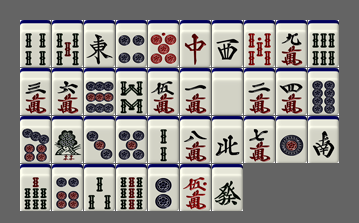0m: (180, 164, 211, 211)
0p: (148, 20, 179, 67)
0s: (244, 20, 275, 67)
1m: (180, 68, 211, 115)
1p: (276, 116, 307, 163)
1s: (52, 116, 83, 163)
1z: (84, 20, 115, 67)
2m: (244, 68, 275, 115)
2p: (148, 164, 179, 211)
2s: (148, 116, 179, 163)
2z: (308, 116, 339, 163)
3m: (20, 68, 51, 115)
3p: (84, 116, 115, 163)
3s: (84, 164, 115, 211)
3z: (212, 20, 243, 67)
4m: (276, 68, 307, 115)
4p: (116, 20, 147, 67)
4s: (20, 20, 51, 67)
4z: (212, 116, 243, 163)
5m: (148, 68, 179, 115)
5p: (116, 116, 147, 163)
5s: (52, 20, 83, 67)
5z: (212, 68, 243, 115)
6m: (52, 68, 83, 115)
6p: (52, 164, 83, 211)
6s: (308, 20, 339, 67)
6z: (212, 164, 243, 211)
7m: (244, 116, 275, 163)
7p: (20, 116, 51, 163)
7s: (20, 164, 51, 211)
7z: (180, 20, 211, 67)
8m: (180, 116, 211, 163)
8p: (308, 68, 339, 115)
8s: (116, 68, 147, 115)
9m: (276, 20, 307, 67)
9p: (84, 68, 115, 115)
9s: (116, 164, 147, 211)
